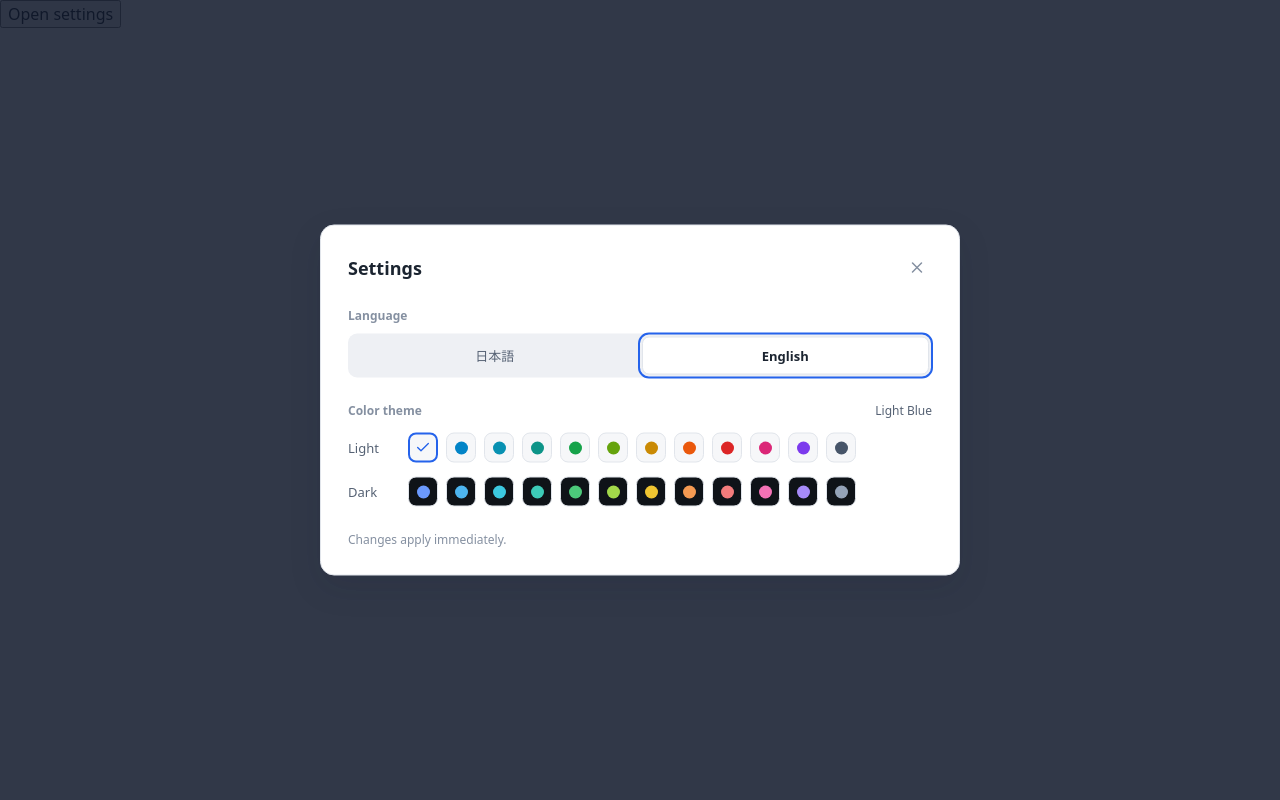
Test: SettingsDialog selection › applies and saves a theme immediately, stays open, and keeps the focus on the choice
Click the radio button named "Dark Teal".
click(537, 492)  # box left=522, top=476, right=552, bottom=506
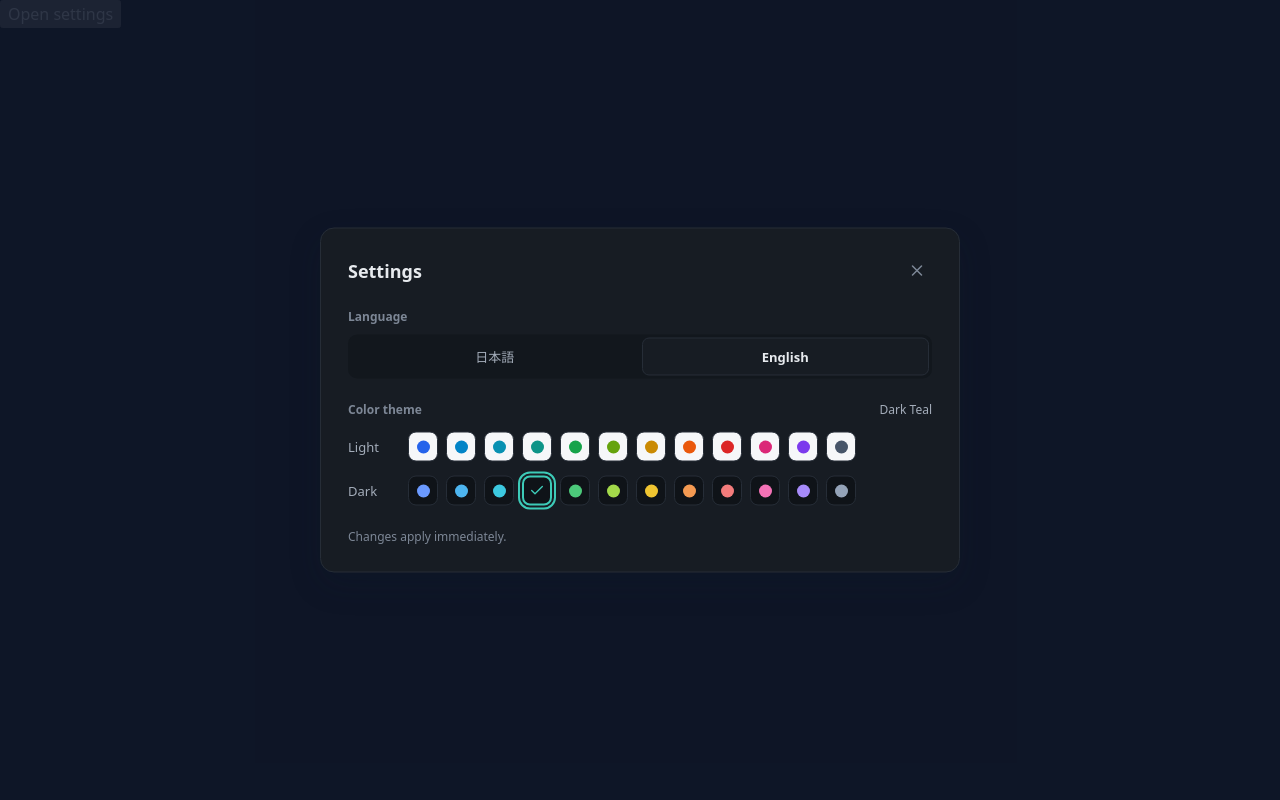
Expected: the dialog "Settings" is shown, left=320, top=228, right=960, bottom=572
Expected: the text "Dark Teal" is shown, left=880, top=400, right=932, bottom=418
